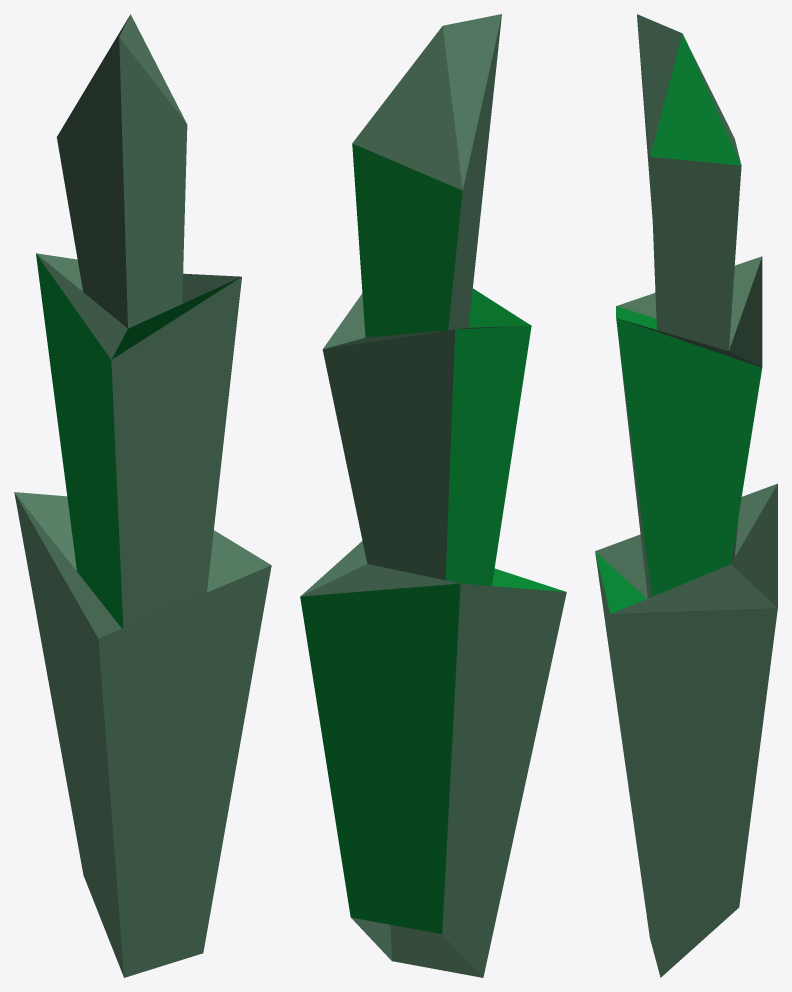
Rendered from plant_2.fbx.
3 views of the same model, side by side, from view 1: azimuth 30°, elevation 25°; view 2: azimuth 150°, elevation 25°; view 3: azimuth 270°, elevation 25° (orthographic). The views are drawn at different scales.
Parts seen in each view (by area): view 1: plant_2; view 2: plant_2; view 3: plant_2.
Boxes of the visible parts, x1=… form: plant_2: x1=14, y1=14, x2=271, y2=977; plant_2: x1=300, y1=14, x2=566, y2=977; plant_2: x1=595, y1=14, x2=777, y2=977.
Size of the model in its own units: 15.32 by 76.68 by 13.84.
